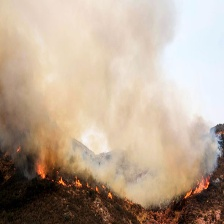fire: (35, 164, 118, 198), (186, 176, 216, 198)
smoke: (3, 2, 217, 190)
